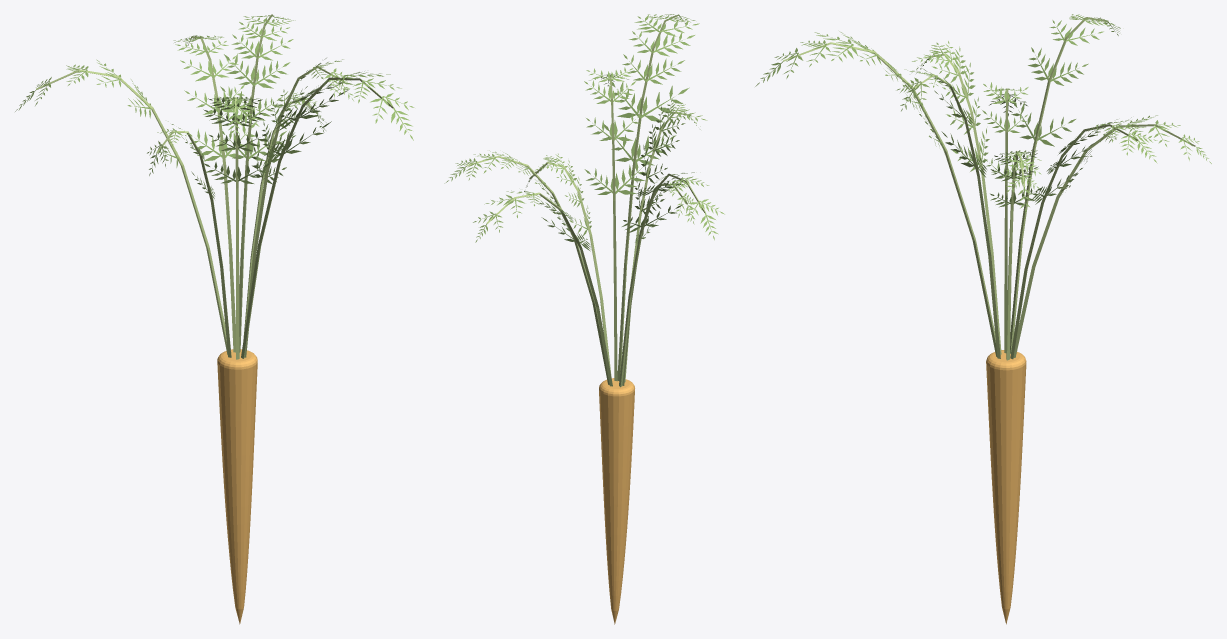
The model's file is carrot_harvest_v22.glb.
3 views of the same model, side by side, from view 1: azimuth 30°, elevation 25°; view 2: azimuth 150°, elevation 25°; view 3: azimuth 270°, elevation 25° (orthographic). The views are drawn at different scales.
Parts seen in each view (by area): view 1: leaves, petioles, root; view 2: leaves, petioles, root; view 3: leaves, petioles, root.
Part boxes in pixels (<box>): leaves: <box>15,15,414,198</box>; petioles: <box>36,14,393,359</box>; root: <box>217,349,257,624</box>; leaves: <box>444,14,724,251</box>; petioles: <box>466,14,705,387</box>; root: <box>599,378,634,624</box>; leaves: <box>755,14,1211,213</box>; petioles: <box>783,17,1195,360</box>; root: <box>986,350,1026,624</box>.
Bounding box in the file's own units: 0.2202 × 0.4424 × 0.3074.
